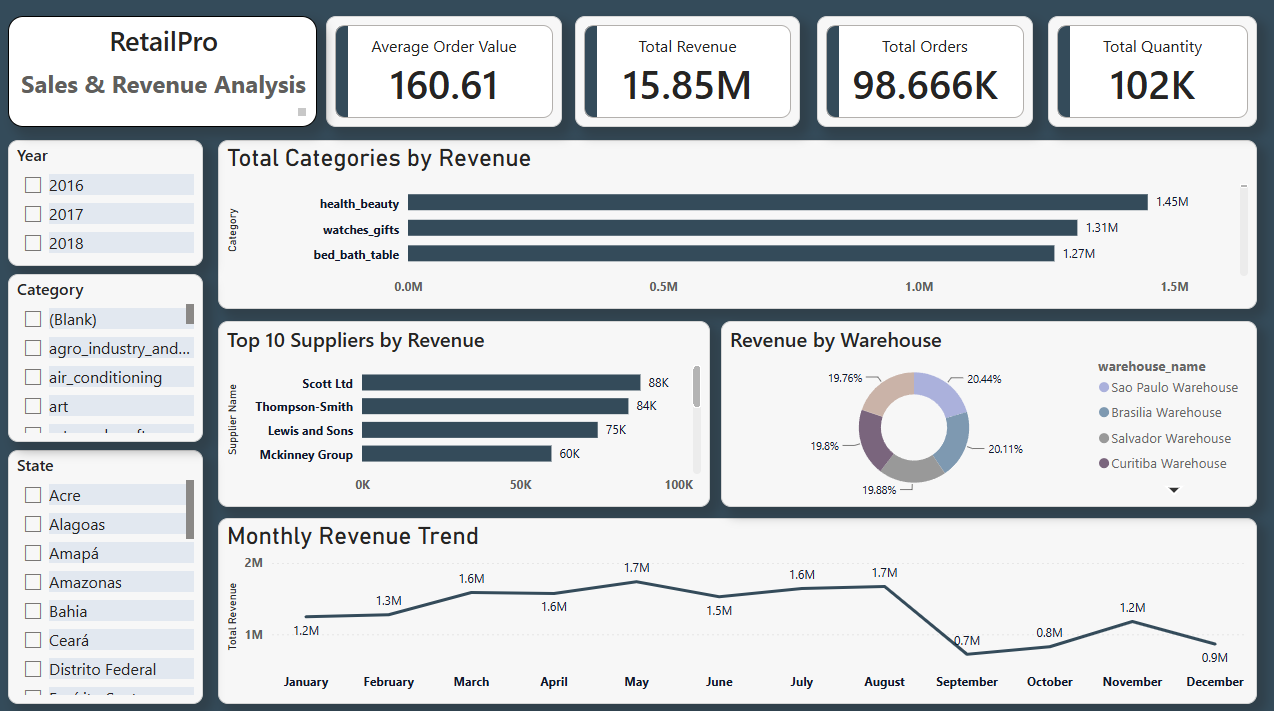

Layout of this report page (visuals, bound fields, positions):
{"tool":"powerbi","page":{"name":"Sales Analytics","canvas":[1280,720],"ordinal":1},"visuals":[{"type":"clusteredBarChart","title":"Total Categories by Revenue","fields":{"Category":["dim_product.category_name"],"Y":["fact_sales.Total Revenue"]},"box":[220.8,141.2,1038.7,168.9],"z":0},{"type":"barChart","title":"Top 10 Suppliers by Revenue","fields":{"Category":["dim_supplier.supplier_name"],"Y":["fact_sales.Total Revenue"]},"box":[220.8,322.1,492.2,185.8],"z":2000},{"type":"lineChart","title":"Monthly Revenue Trend","fields":{"Category":["dim_date.month_name"],"Y":["fact_sales.Total Revenue"]},"box":[220.8,518.8,1038.7,185.8],"z":3000},{"type":"cardVisual","fields":{"Data":["fact_sales.Average Order Value"]},"box":[329.4,16.9,235.3,111],"z":4000},{"type":"donutChart","title":"Revenue by Warehouse","fields":{"Category":["dim_warehouse.warehouse_name"],"Y":["fact_sales.Total Revenue"]},"box":[723.9,322.1,535.7,185.8],"z":5000},{"type":"slicer","title":"Year","fields":{"Values":["dim_date.year"]},"box":[10.9,141.2,195.4,125.5],"z":6000},{"type":"slicer","title":"State","fields":{"Values":["dim_customer.State Name"]},"box":[10.9,451.2,195.4,253.4],"z":7000},{"type":"slicer","title":"Category","fields":{"Values":["dim_product.category_name"]},"box":[10.9,275.1,195.4,167.7],"z":8000},{"type":"textbox","title":"Retailsphere","box":[10.9,16.9,308.8,111],"z":9000},{"type":"cardVisual","fields":{"Data":["fact_sales.Total Revenue"]},"box":[577.9,16.9,225.6,111],"z":10000},{"type":"cardVisual","fields":{"Data":["fact_sales.Total Orders"]},"box":[820.4,16.9,216,111],"z":11000},{"type":"cardVisual","fields":{"Data":["fact_sales.Total Quantity"]},"box":[1050.8,16.9,208.7,111],"z":12000}]}

Visuals, with their boxes in screenshot pixels (x1, y1, x2, y2), scaled from the page's 1280x720 canvas onto the 1274x711 screenshot:
"Total Categories by Revenue" clusteredBarChart: 220, 139, 1254, 306
"Top 10 Suppliers by Revenue" barChart: 220, 318, 710, 502
"Monthly Revenue Trend" lineChart: 220, 512, 1254, 696
cardVisual - fact_sales.Average Order Value: 328, 17, 562, 126
"Revenue by Warehouse" donutChart: 721, 318, 1254, 502
"Year" slicer: 11, 139, 205, 263
"State" slicer: 11, 446, 205, 696
"Category" slicer: 11, 272, 205, 437
"Retailsphere" textbox: 11, 17, 318, 126
cardVisual - fact_sales.Total Revenue: 575, 17, 800, 126
cardVisual - fact_sales.Total Orders: 817, 17, 1032, 126
cardVisual - fact_sales.Total Quantity: 1046, 17, 1254, 126
